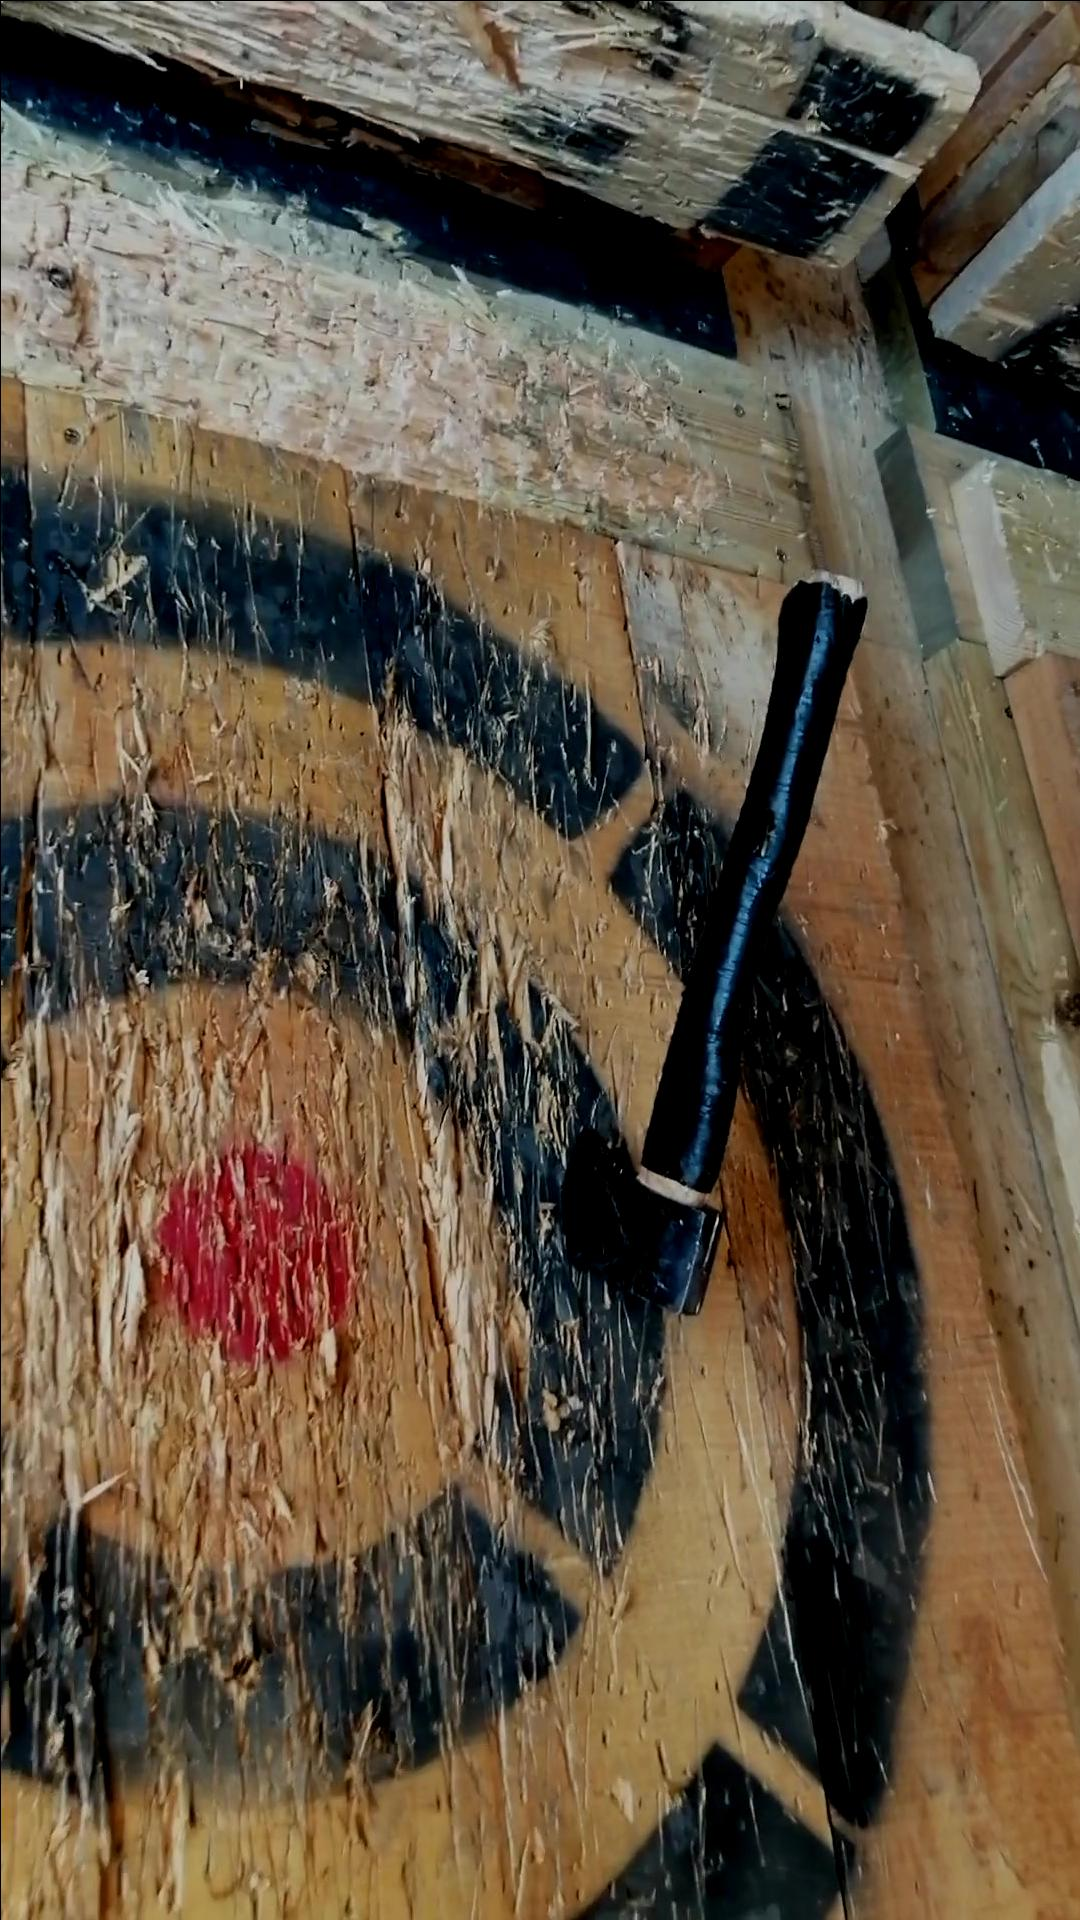Hand Axe: (549, 1131, 727, 1323)
